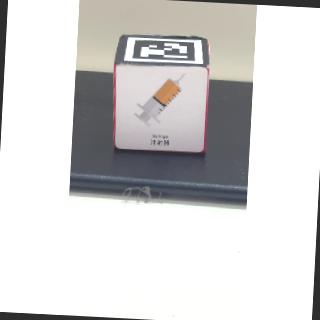Syringe: (113, 64, 211, 154)
